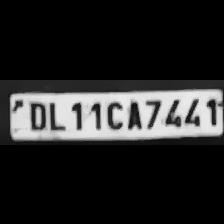1: (66, 97, 86, 130), (202, 96, 222, 128), (85, 99, 103, 131)
4: (162, 96, 182, 128), (182, 95, 202, 127)
7: (140, 97, 160, 129)
A: (123, 98, 143, 130)
C: (102, 98, 124, 130)
D: (25, 99, 47, 131)
L: (46, 97, 66, 130)
